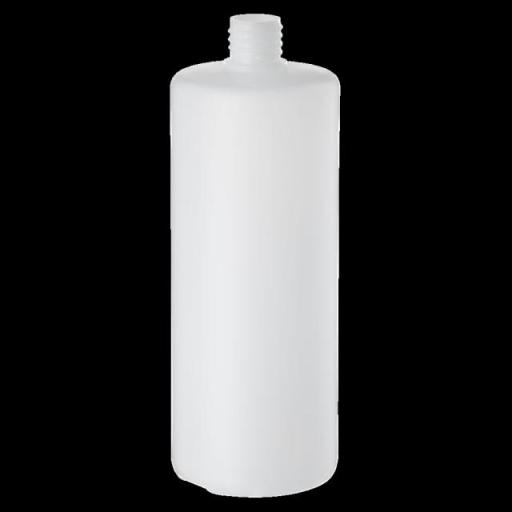plastic: (164, 9, 342, 498)
